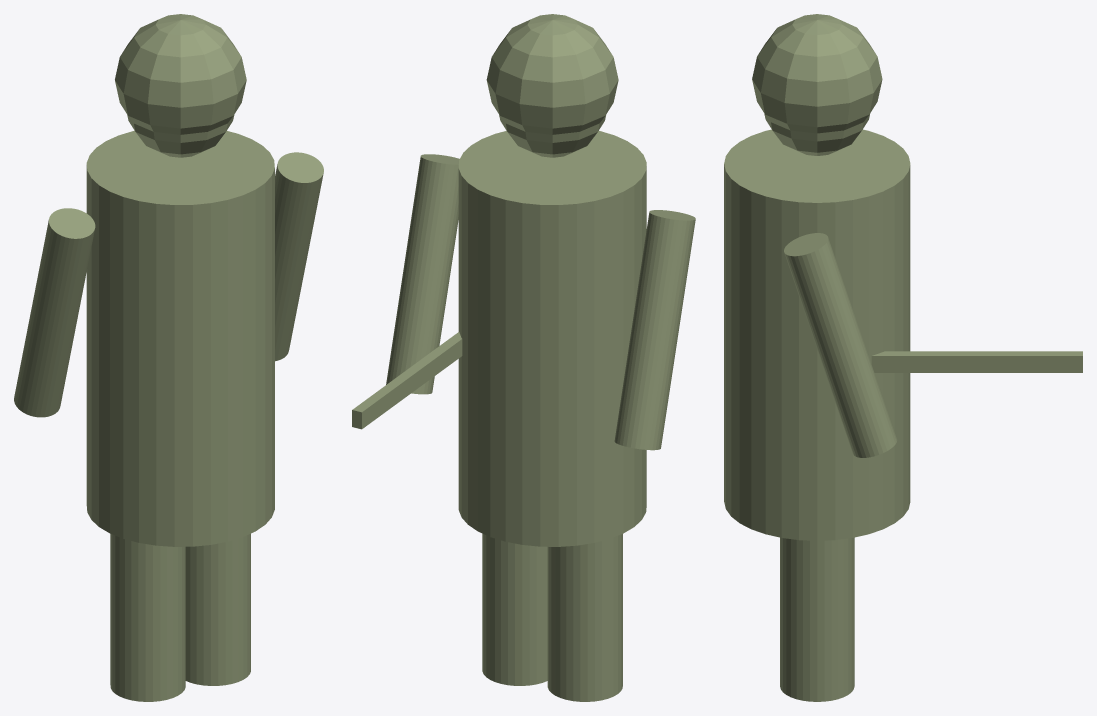
The model's file is us_infantry.glb.
The picture shows the model from 3 angles, left to right: view 1: azimuth 30°, elevation 25°; view 2: azimuth 150°, elevation 25°; view 3: azimuth 270°, elevation 25°; orthographic projection.
Parts seen in each view (by area): view 1: us_infantry; view 2: us_infantry; view 3: us_infantry.
Boxes of the visible parts, box(x1,y1,x2,y2) form: us_infantry: box(14, 14, 323, 701); us_infantry: box(352, 14, 695, 701); us_infantry: box(724, 14, 1082, 701).
Size of the model in its own units: 0.66 by 1.54 by 0.77.
